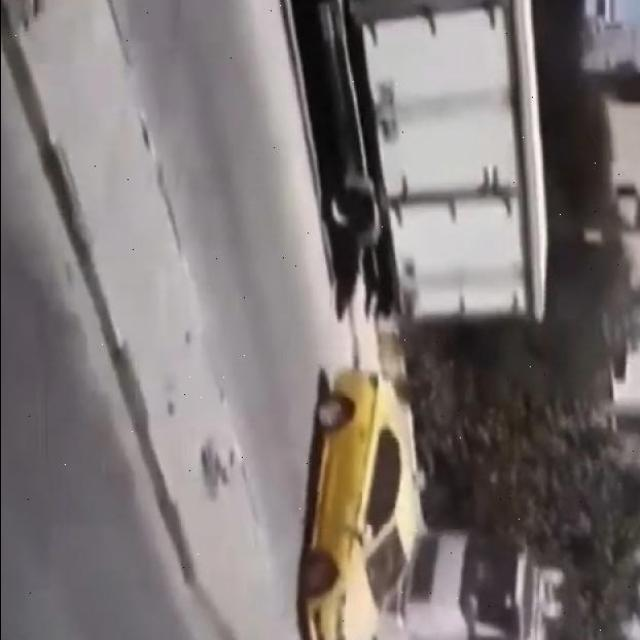accident: (293, 370, 563, 640)
